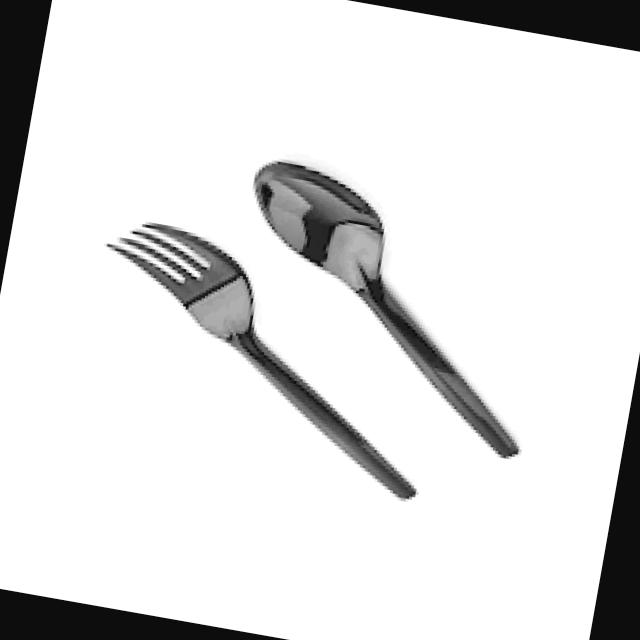plastic utensil: (107, 225, 415, 495), (255, 164, 517, 454)
